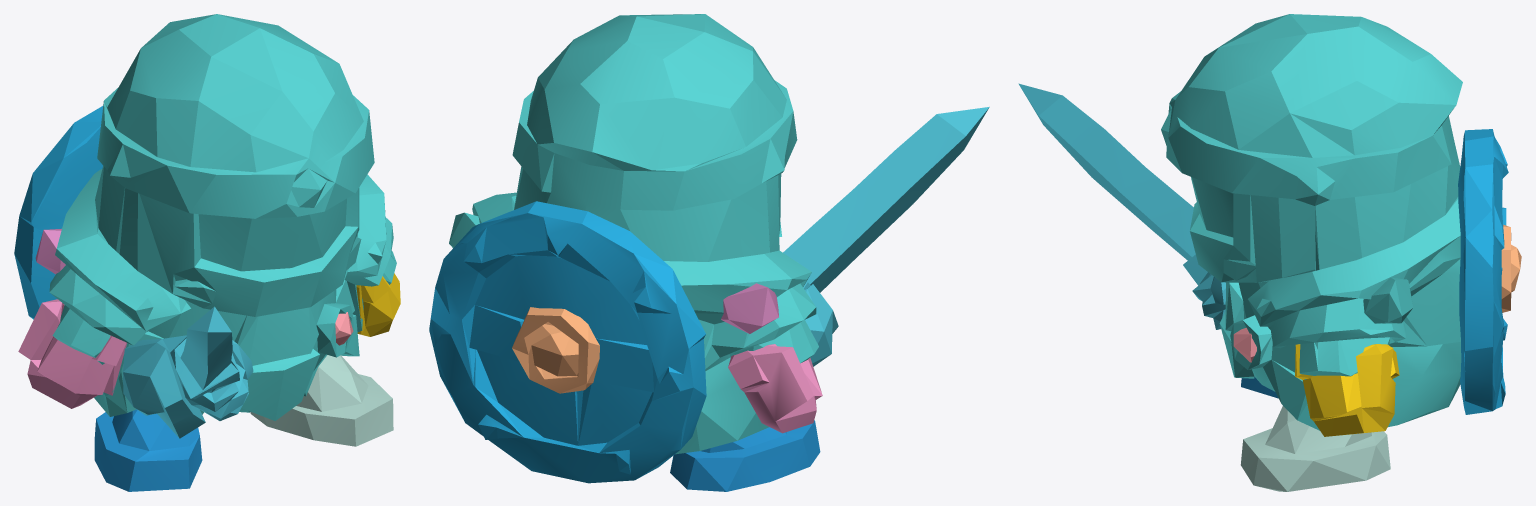
Rendered from Soldier_base.fbx.
3 renders of one model, left to right at view 1: azimuth 30°, elevation 25°; view 2: azimuth 150°, elevation 25°; view 3: azimuth 270°, elevation 25°, orthographic. The views are drawn at different scales.
Parts seen in each view (by area): view 1: root.0, root.2, root.1, root.4, root.3, root.5, root.6, root.8, root.10; view 2: root.0, root.1, root.2, root.4, root.7, root.5, root.8; view 3: root.0, root.1, root.2, root.3, root.6, root.9, root.7, root.10.
Part boxes in pixels (box(x1,y1,x2,y2)): root.0: box(49, 14, 396, 420); root.2: box(123, 306, 253, 438); root.1: box(14, 106, 103, 319); root.4: box(94, 409, 202, 491); root.3: box(250, 355, 393, 446); root.5: box(18, 299, 126, 408); root.6: box(356, 273, 400, 336); root.8: box(35, 228, 65, 274); root.10: box(335, 312, 353, 345); root.0: box(472, 14, 818, 454); root.1: box(429, 201, 706, 483); root.2: box(783, 107, 989, 366); root.4: box(670, 420, 820, 491); root.7: box(512, 307, 599, 393); root.5: box(728, 344, 822, 433); root.8: box(721, 283, 778, 333); root.0: box(1161, 14, 1462, 430); root.1: box(1458, 129, 1508, 414); root.2: box(1018, 83, 1225, 329); root.3: box(1240, 406, 1390, 491); root.6: box(1295, 344, 1399, 436); root.9: box(1363, 277, 1413, 323); root.7: box(1501, 224, 1521, 312); root.10: box(1233, 327, 1256, 362).
Size of the model in its own units: 161 by 173 by 195.
